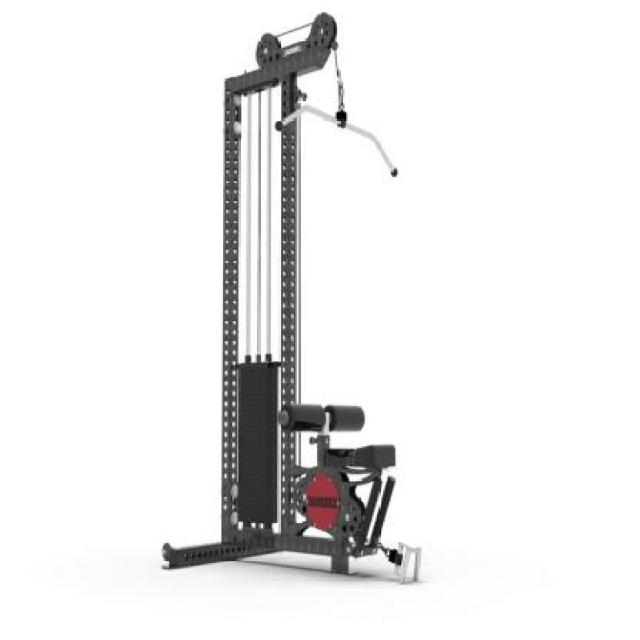Lat Pull Down: (160, 9, 440, 596)
